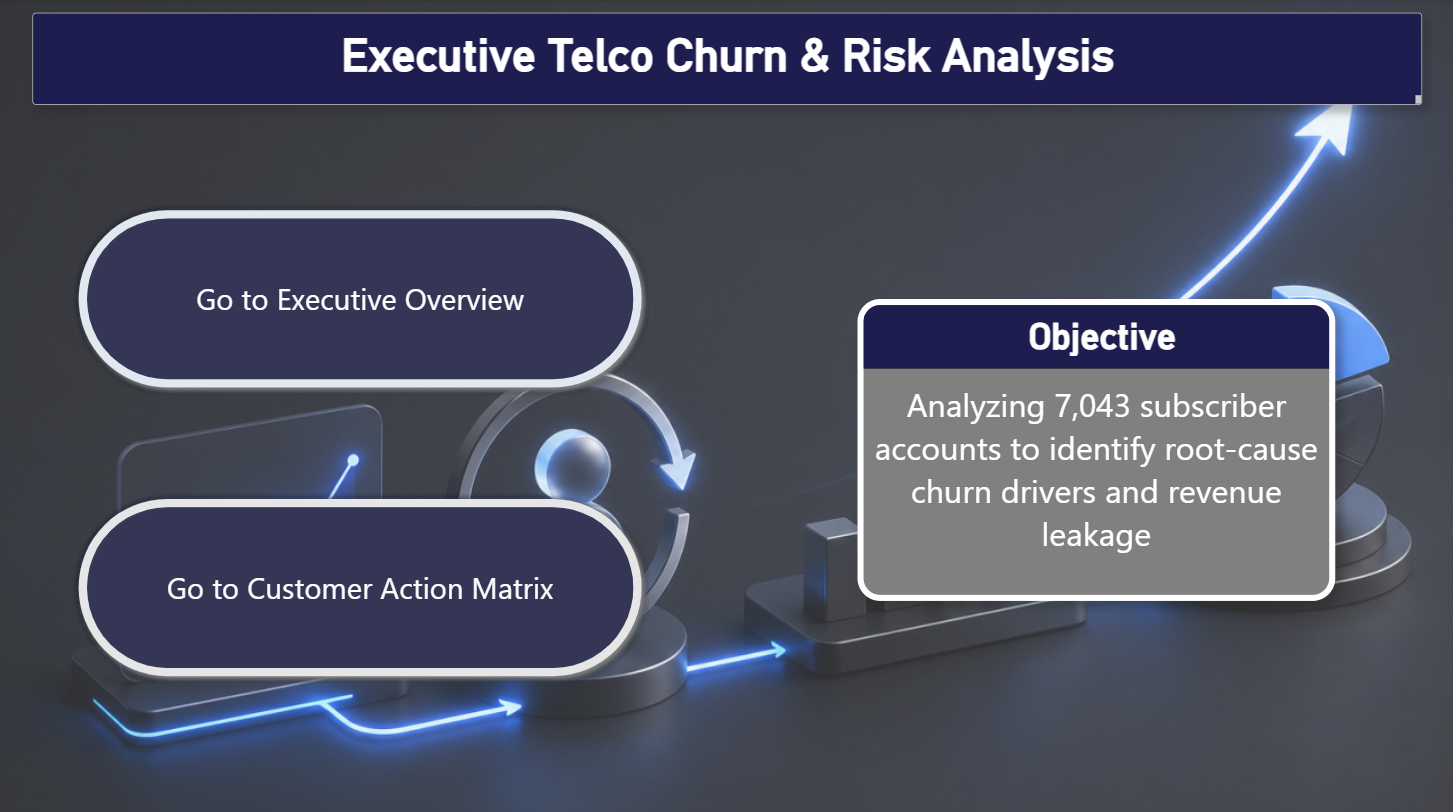

The dashboard page shown, as its layout file describes it:
{"tool":"powerbi","page":{"name":"Cover","canvas":[1920,1080],"ordinal":0},"visuals":[{"type":"actionButton","box":[94.6,269.6,762.5,253.6],"z":0},{"type":"actionButton","box":[94.6,650,762.5,253.6],"z":1000},{"type":"textbox","title":"Executive Telco Churn & Risk Analysis","box":[42.9,17.9,1833.9,121.4],"z":2000},{"type":"textbox","title":"Objective","box":[1132.1,396.4,630.4,398.2],"z":3000}]}

Visuals, with their boxes in screenshot pixels (x1, y1, x2, y2), scaled from the page's 1920x1080 canvas onto the 1453x812 screenshot:
actionButton: rect(72, 203, 649, 393)
actionButton: rect(72, 489, 649, 679)
"Executive Telco Churn & Risk Analysis" textbox: rect(32, 13, 1420, 105)
"Objective" textbox: rect(857, 298, 1334, 597)
